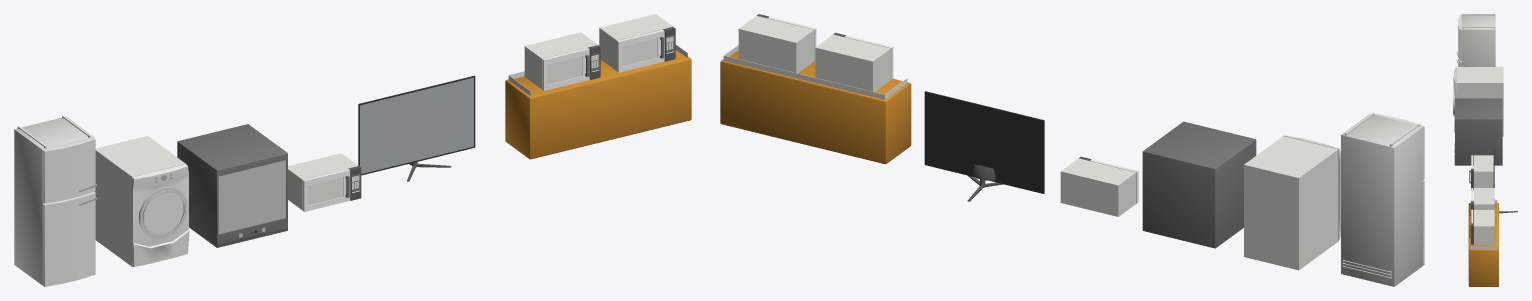
3 renders of one model, left to right at view 1: azimuth 30°, elevation 25°; view 2: azimuth 150°, elevation 25°; view 3: azimuth 270°, elevation 25°, orthographic. The views are drawn at different scales.
Parts seen in each view (by area): view 1: 1_2, 2, 4, 3, 6, 1_1, 1, 5; view 2: 1_2, 2, 4, 3, 6, 5, 1_1, 1; view 3: 4, 2, 3, 1_2, 1, 5, 1_1, 6.
Boxes of the visible parts, x1,y1,x2,y2 form: 1_2: [505, 44, 691, 159]; 2: [14, 115, 97, 286]; 4: [177, 124, 287, 247]; 3: [95, 136, 189, 267]; 6: [358, 75, 475, 181]; 1_1: [524, 32, 600, 90]; 1: [599, 14, 675, 72]; 5: [288, 153, 361, 211]; 1_2: [720, 45, 911, 164]; 2: [1341, 112, 1424, 286]; 4: [1142, 121, 1256, 248]; 3: [1244, 135, 1340, 270]; 6: [924, 91, 1044, 201]; 5: [1060, 156, 1138, 216]; 1_1: [815, 32, 893, 91]; 1: [738, 14, 816, 73]; 4: [1454, 98, 1502, 165]; 2: [1456, 14, 1495, 66]; 3: [1453, 67, 1503, 136]; 1_2: [1468, 200, 1498, 286]; 1: [1469, 209, 1494, 244]; 5: [1469, 155, 1493, 190]; 1_1: [1469, 188, 1494, 222]; 6: [1493, 149, 1517, 213].
Bounding box in the file's own units: 527 × 106 × 75.23.
